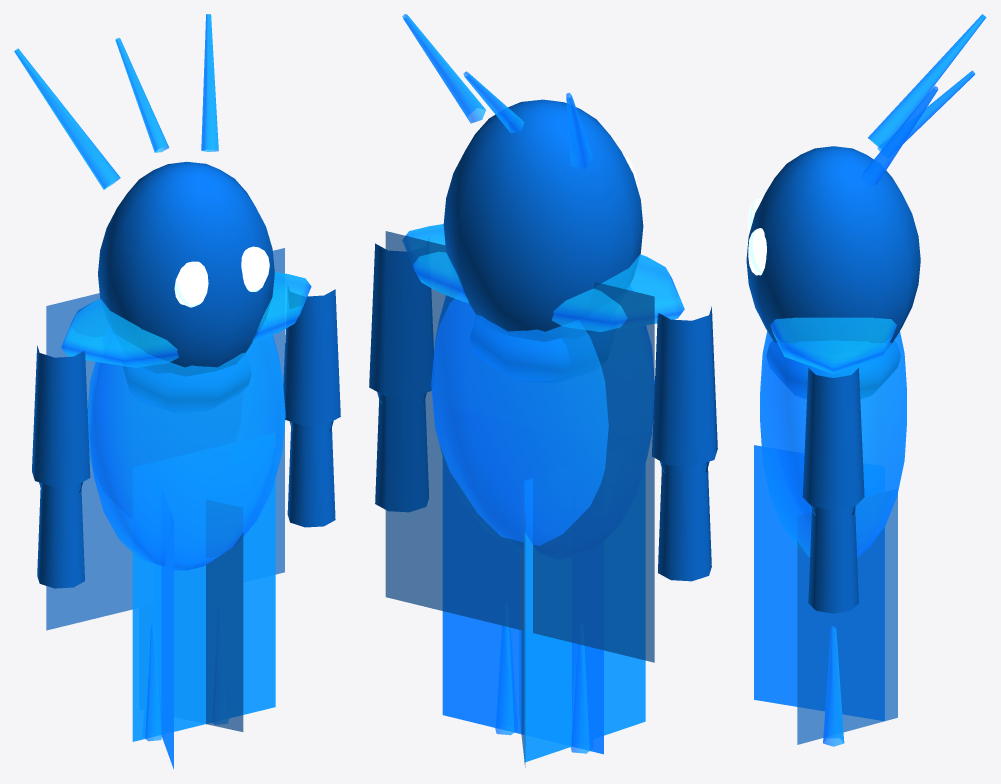
File: spectral-banshee.glb
3 views of the same model, side by side, from view 1: azimuth 30°, elevation 25°; view 2: azimuth 150°, elevation 25°; view 3: azimuth 270°, elevation 25° (orthographic). The views are drawn at different scales.
Visible parts, largest first — view 1: Body, Head, Extra, Arm_L, Arm_R, Leg_L, Leg_R; view 2: Body, Extra, Head, Arm_L, Arm_R, Leg_R, Leg_L; view 3: Body, Head, Arm_R, Leg_R.
Part boxes in pixels (box(x1,y1,x2,y2)): Body: box(61, 272, 311, 769); Head: box(14, 14, 274, 412); Extra: box(46, 248, 284, 630); Arm_L: box(32, 345, 90, 588); Arm_R: box(283, 286, 340, 527); Leg_L: box(145, 625, 161, 741); Leg_R: box(212, 609, 228, 724); Body: box(402, 224, 684, 767); Extra: box(385, 231, 654, 662); Head: box(402, 14, 643, 380); Arm_L: box(652, 306, 717, 581); Arm_R: box(369, 239, 433, 511); Leg_R: box(495, 605, 514, 735); Leg_L: box(570, 623, 589, 753); Body: box(754, 317, 906, 744); Head: box(746, 14, 986, 398); Arm_R: box(802, 368, 864, 613); Leg_R: box(823, 626, 844, 746).
Bounding box in the file's own units: 2.54 × 5.3 × 1.71.
